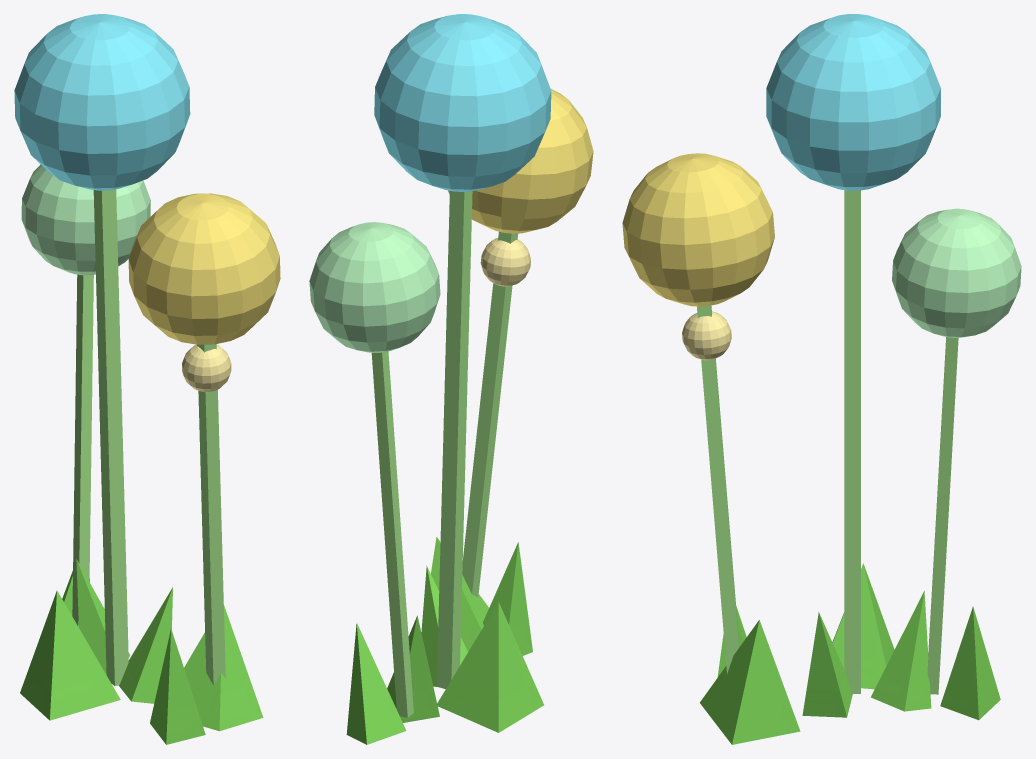
File: 3fleurs.FBX
3 renders of one model, left to right at view 1: azimuth 30°, elevation 25°; view 2: azimuth 150°, elevation 25°; view 3: azimuth 270°, elevation 25°, orthographic.
Visible parts, largest first — view 1: GroupePlante01; view 2: GroupePlante01; view 3: GroupePlante01.
Boxes of the visible parts, box(x1,y1,x2,y2) form: GroupePlante01: box(14, 14, 280, 744); GroupePlante01: box(309, 14, 593, 744); GroupePlante01: box(622, 14, 1021, 744).
Size of the model in its own units: 12.22 by 45.06 by 24.17.
